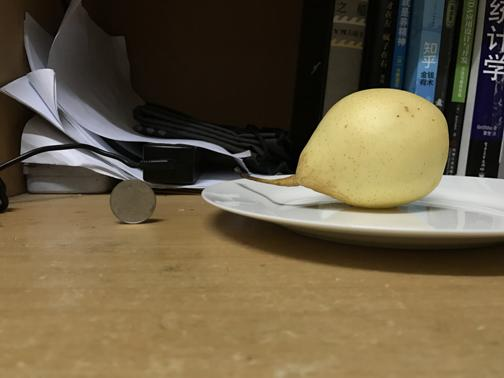coin: (109, 176, 155, 224)
pear: (297, 89, 447, 210)
